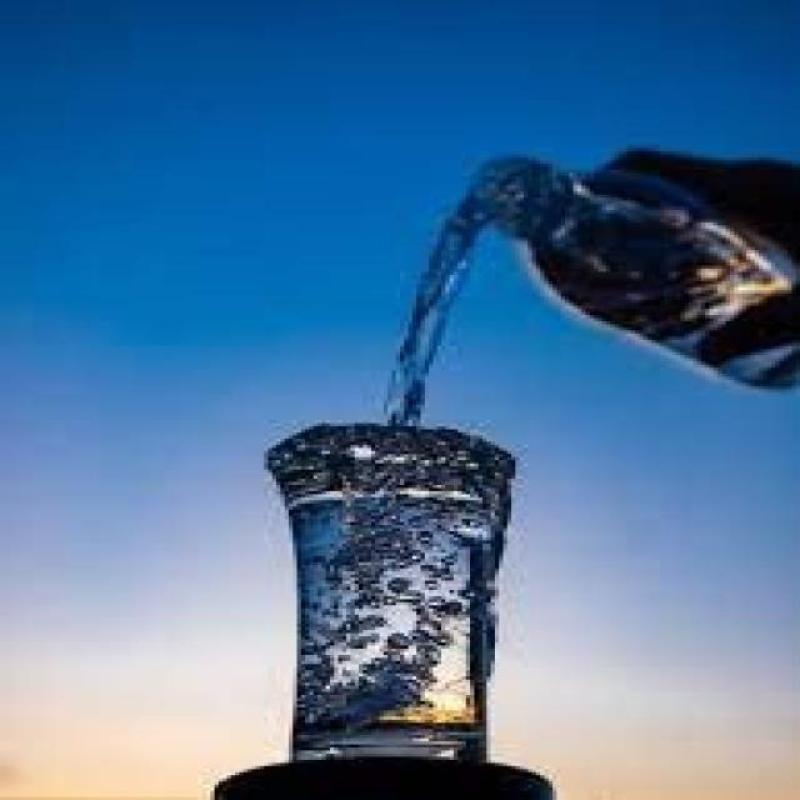botella: (457, 155, 800, 390)
